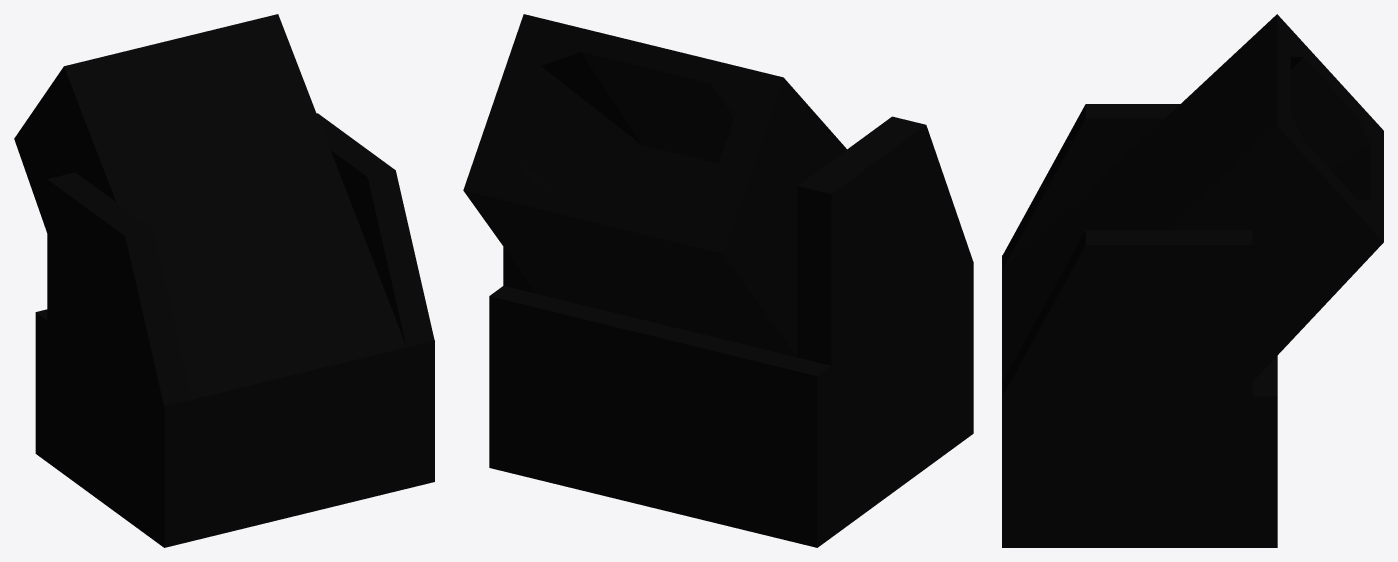
Rendered from FixedEnemy.obj.
The picture shows the model from 3 angles, left to right: view 1: azimuth 30°, elevation 25°; view 2: azimuth 150°, elevation 25°; view 3: azimuth 270°, elevation 25°; orthographic projection. The views are drawn at different scales.
Visible parts, largest first — view 1: Cube; view 2: Cube; view 3: Cube.
Boxes of the visible parts, x1=… form: Cube: x1=14, y1=14, x2=434, y2=547; Cube: x1=463, y1=14, x2=973, y2=547; Cube: x1=1002, y1=14, x2=1383, y2=547.
Size of the model in its own units: 2 by 2.69 by 2.28.
Materials: 1 (1 with a texture image).
